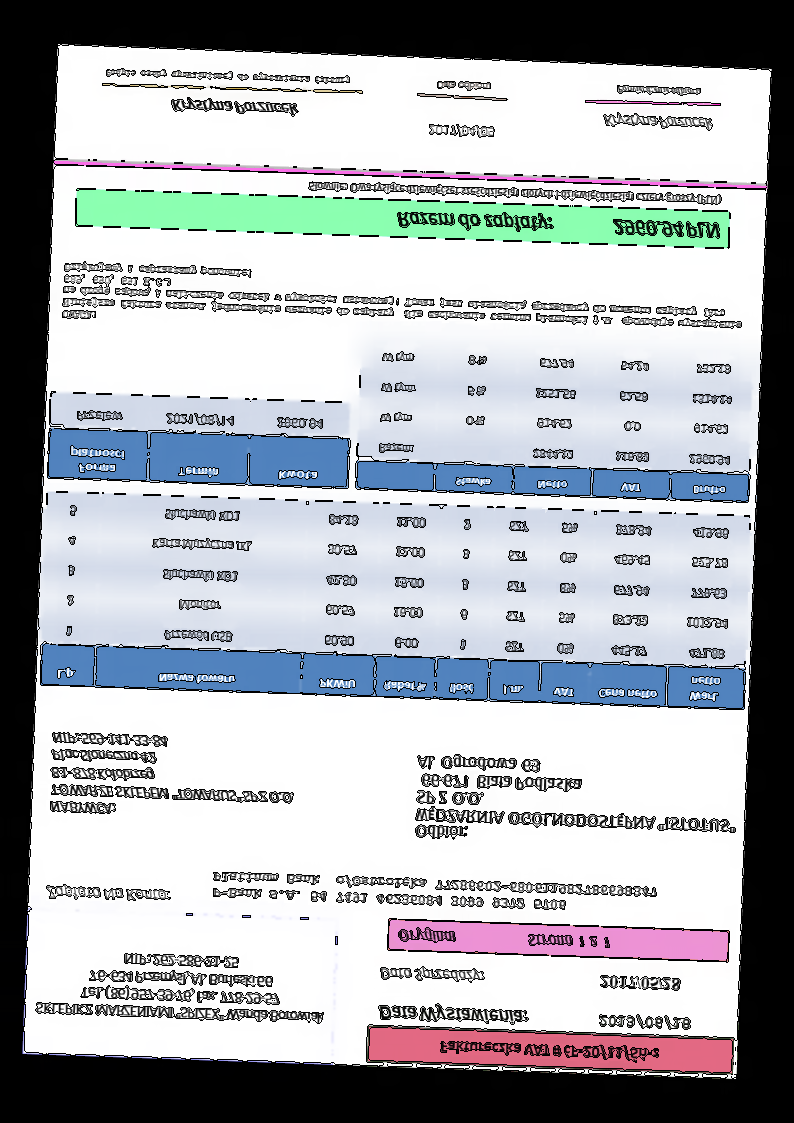Table: (39, 489, 753, 710), (354, 337, 756, 503), (45, 390, 351, 489)
TextBox: (59, 258, 745, 344), (413, 751, 740, 850), (33, 946, 327, 1030), (46, 728, 301, 823), (210, 866, 661, 917), (306, 177, 723, 209), (394, 208, 722, 241), (438, 1037, 662, 1064), (103, 64, 351, 88), (398, 927, 615, 952), (377, 1001, 531, 1028), (43, 881, 174, 904), (170, 94, 301, 117), (601, 110, 715, 134), (378, 964, 485, 985), (597, 1010, 692, 1032), (425, 120, 497, 143), (599, 972, 681, 992), (615, 82, 704, 98), (435, 78, 494, 94)
